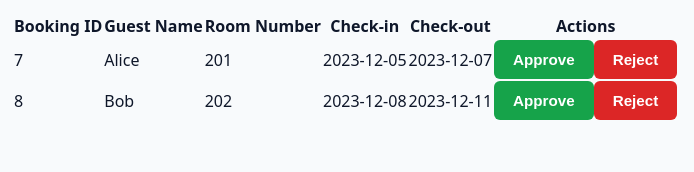
AdminPanel › shows API error on update fail
Expected: the text "Alice" is shown, [104,40,203,79]
Click the button "Approve" in the row of "Alice". click: click(544, 60)
box: [494,40,594,79]
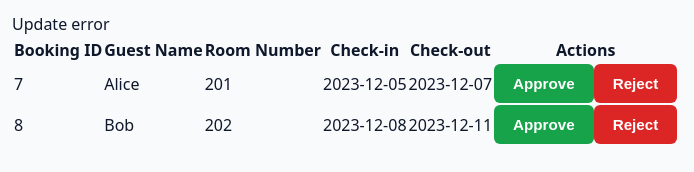
Expected: the text "Update error" is shown, [12,13,110,35]
